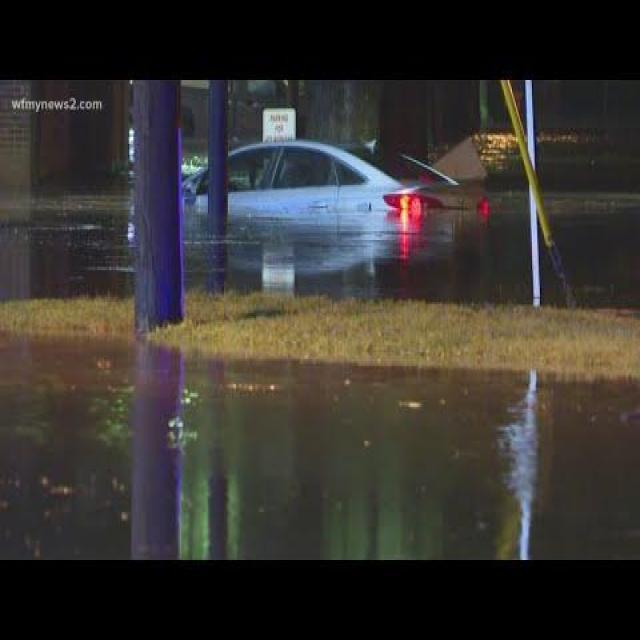water: (0, 329, 637, 562), (184, 192, 534, 304), (2, 196, 132, 301), (546, 189, 636, 311), (537, 212, 570, 302)
